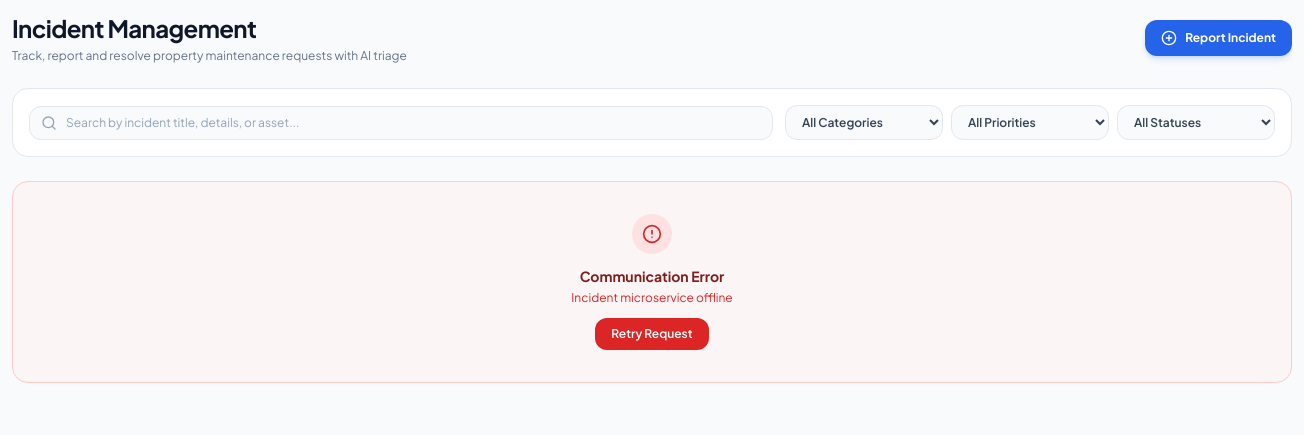
IncidentListPage › displays error state with retry button on API failure
Check: the text "Incident microservice offline" is shown, box [571,290,733,306]
Click the button "Retry Request".
click(652, 334)  # box [595,318,709,350]
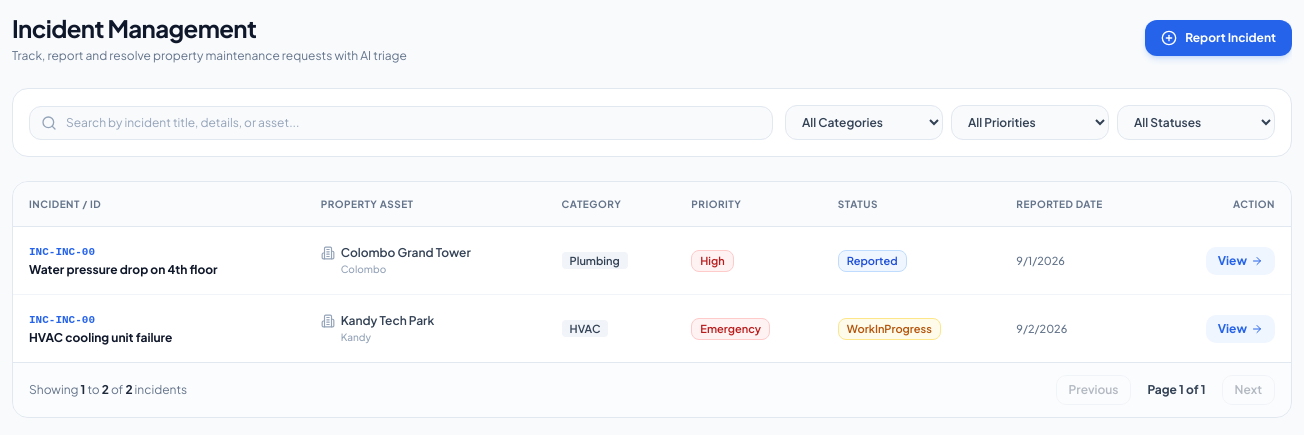
Check: the text "Water pressure drop on 4th floor" is shown, box [29,262,218,277]
